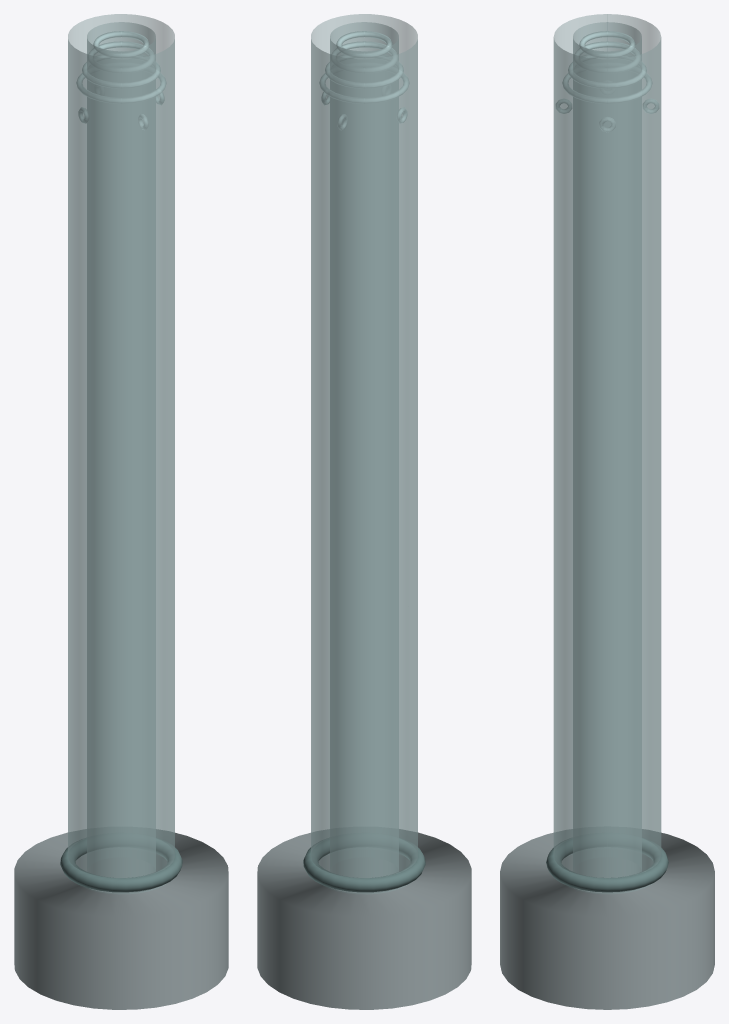
The model's file is cannula.glb.
The picture shows the model from 3 angles, left to right: view 1: azimuth 30°, elevation 25°; view 2: azimuth 150°, elevation 25°; view 3: azimuth 270°, elevation 25°; orthographic projection.
Parts seen in each view (by area): view 1: CannulaTube, LuerHub, SiliconeGasket, TipRib3, TipRib4, TipRib1, TipRib2; view 2: CannulaTube, LuerHub, SiliconeGasket, TipRib3, TipRib4, TipRib1, TipRib2; view 3: CannulaTube, LuerHub, SiliconeGasket, TipRib3, TipRib4, TipRib1, TipRib2.
Part boxes in pixels (x1=…): CannulaTube: x1=68, y1=14, x2=174, y2=894; LuerHub: x1=14, y1=829, x2=228, y2=1009; SiliconeGasket: x1=60, y1=838, x2=182, y2=892; TipRib3: x1=88, y1=41, x2=154, y2=72; TipRib4: x1=93, y1=31, x2=149, y2=58; TipRib1: x1=76, y1=73, x2=166, y2=103; TipRib2: x1=82, y1=55, x2=160, y2=88; CannulaTube: x1=311, y1=14, x2=417, y2=894; LuerHub: x1=257, y1=829, x2=471, y2=1009; SiliconeGasket: x1=303, y1=838, x2=425, y2=892; TipRib3: x1=331, y1=41, x2=397, y2=72; TipRib4: x1=336, y1=31, x2=392, y2=58; TipRib1: x1=319, y1=73, x2=409, y2=103; TipRib2: x1=325, y1=55, x2=403, y2=88; CannulaTube: x1=553, y1=14, x2=661, y2=894; LuerHub: x1=500, y1=829, x2=714, y2=1009; SiliconeGasket: x1=546, y1=838, x2=668, y2=892; TipRib3: x1=574, y1=41, x2=640, y2=72; TipRib4: x1=579, y1=31, x2=635, y2=58; TipRib1: x1=562, y1=73, x2=652, y2=103; TipRib2: x1=568, y1=55, x2=646, y2=88.
Size of the model in its own units: 0.0084 by 0.04 by 0.0084.
